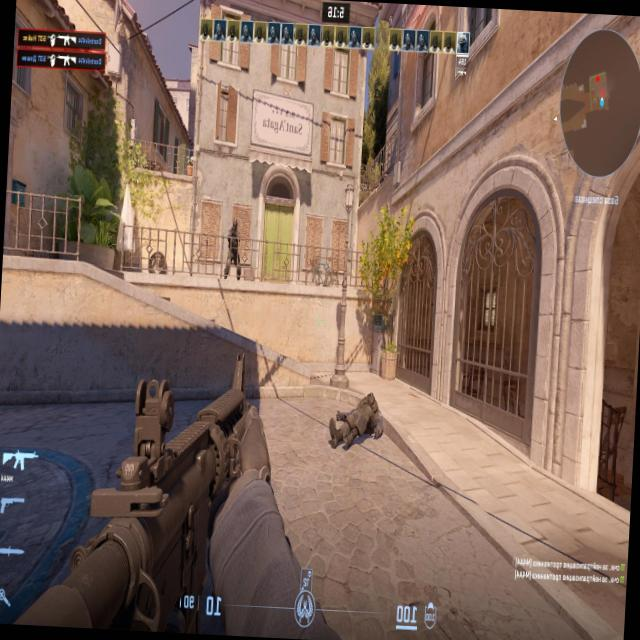CT: (227, 218, 240, 272)
CT_heat: (233, 222, 237, 236)
